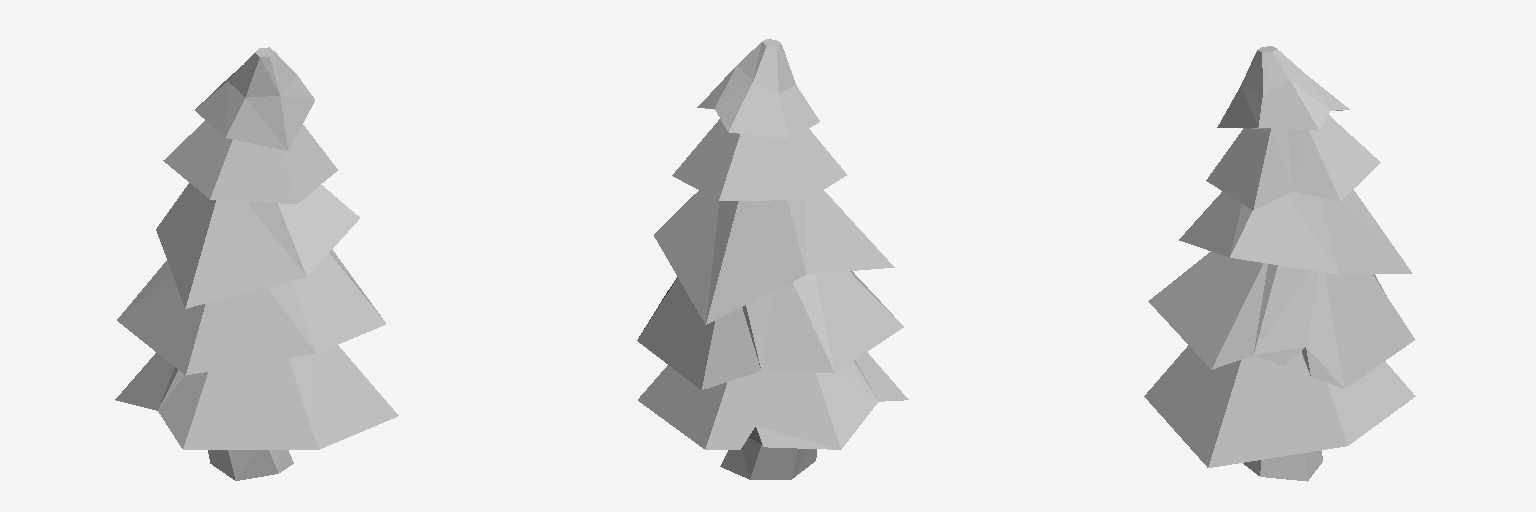
Rendered from Tree2.obj.
3 views of the same model, side by side, from view 1: azimuth 30°, elevation 25°; view 2: azimuth 150°, elevation 25°; view 3: azimuth 270°, elevation 25° (orthographic).
Visible parts, largest first — view 1: Pinetree1; view 2: Pinetree1; view 3: Pinetree1.
Part boxes in pixels (x1,y1,x2,y2): Pinetree1: (115,47,398,480); Pinetree1: (637,39,908,479); Pinetree1: (1144,46,1415,481).
Size of the model in its own units: 11.94 by 22.25 by 13.12.